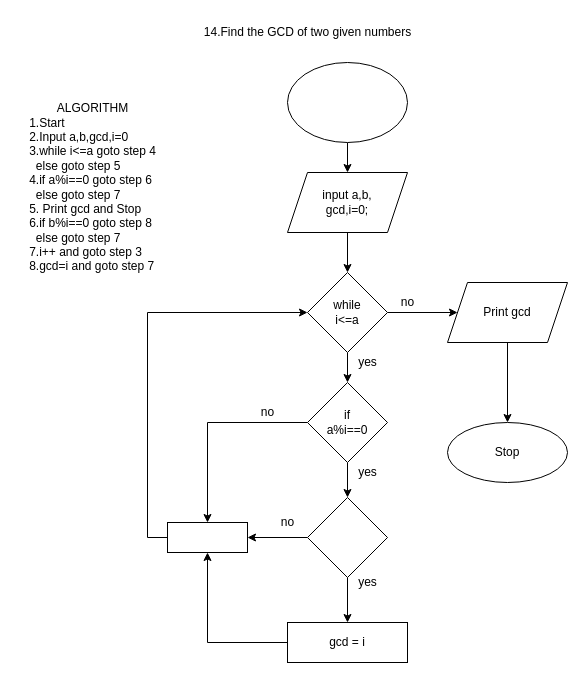
Some shapes in this 585 by 680 pixel diagram are drawn without their labels. Each missing label, with the box of its shape:
i++: (166, 522, 248, 552)
if b%i==0: (306, 496, 388, 578)
Start: (286, 62, 408, 142)
